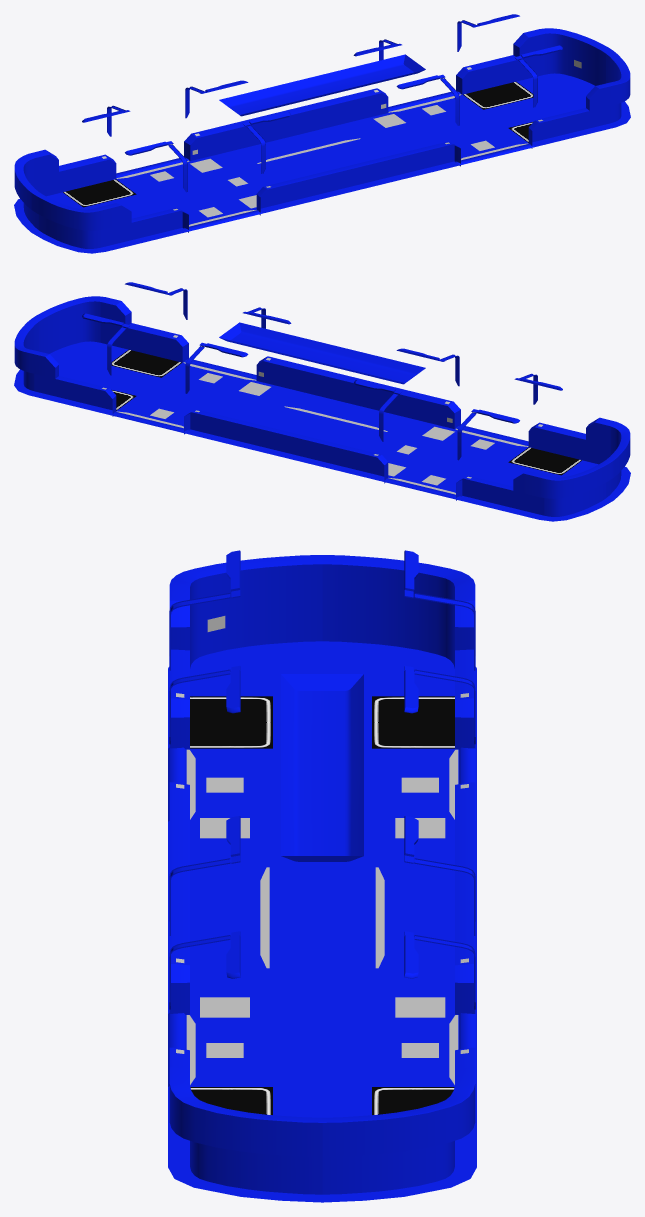
File: SM_Tram_Interior.FBX
3 renders of one model, top to bottom at view 1: azimuth 30°, elevation 25°; view 2: azimuth 150°, elevation 25°; view 3: azimuth 270°, elevation 25°, orthographic. The views are drawn at different scales.
Parts seen in each view (by area): view 1: interior; view 2: interior; view 3: interior.
Boxes of the visible parts, left/top/right/bottom form: interior: left=14, top=14, right=630, bottom=253; interior: left=14, top=282, right=630, bottom=521; interior: left=168, top=550, right=476, bottom=1202.
Bounding box in the file's own units: 2037 × 268 × 468.
